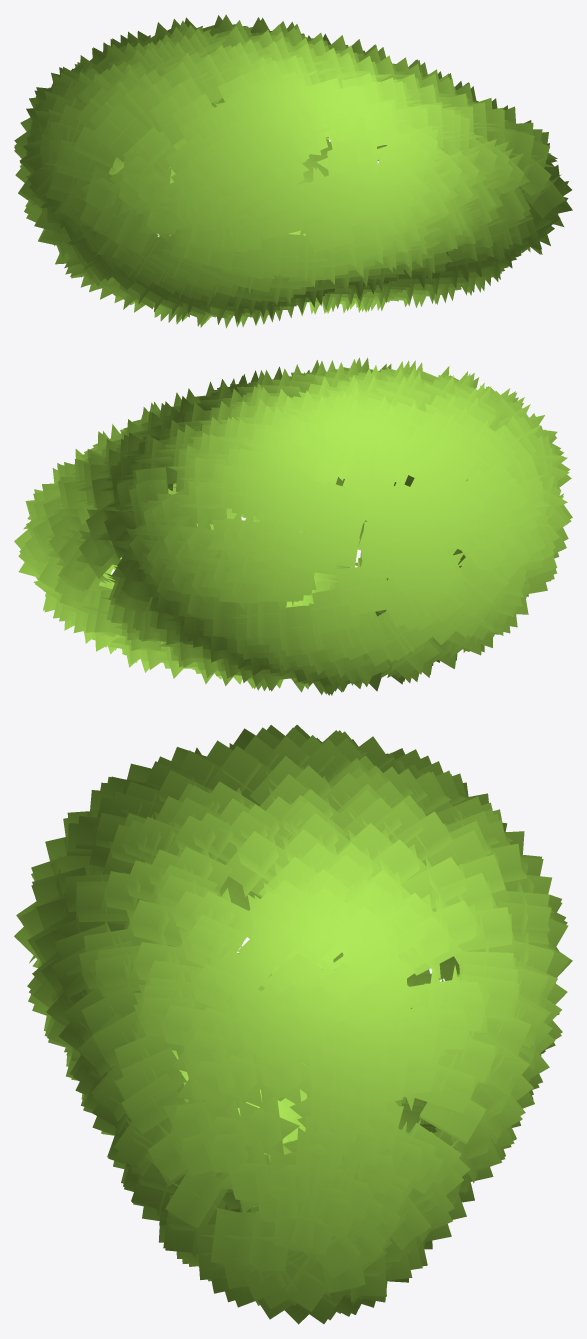
File: Foliage01.fbx
The picture shows the model from 3 angles, top to bottom: view 1: azimuth 30°, elevation 25°; view 2: azimuth 150°, elevation 25°; view 3: azimuth 270°, elevation 25°; orthographic projection. The views are drawn at different scales.
Visible parts, largest first — view 1: Foliage01; view 2: Foliage01; view 3: Foliage01.
Boxes of the visible parts, x1,y1,x2,y2 form: Foliage01: [14, 14, 572, 328]; Foliage01: [14, 357, 572, 695]; Foliage01: [14, 725, 572, 1324].
Bounding box in the file's own units: 6.3 × 3.58 × 4.61.
